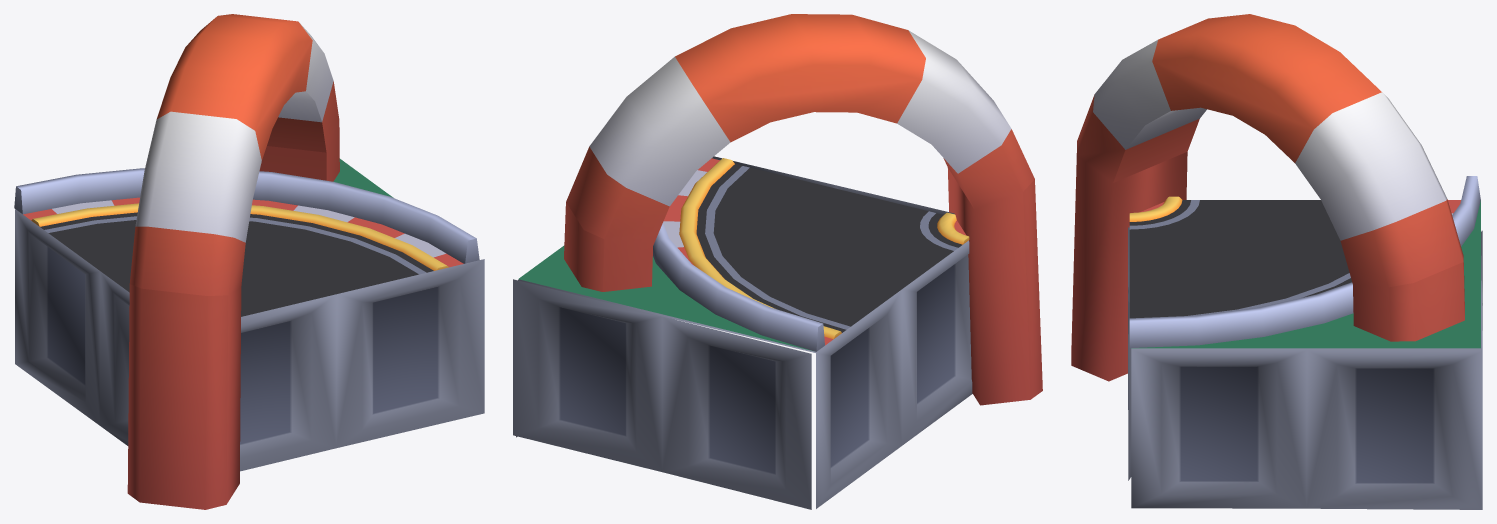
File: track-checkpoint-corner.glb
3 views of the same model, side by side, from view 1: azimuth 30°, elevation 25°; view 2: azimuth 150°, elevation 25°; view 3: azimuth 270°, elevation 25° (orthographic). The views are drawn at different scales.
Parts seen in each view (by area): view 1: track-corner; view 2: track-corner; view 3: track-corner.
Part boxes in pixels (<box>): track-corner: <box>14,14,484,509</box>; track-corner: <box>513,14,1042,509</box>; track-corner: <box>1071,14,1482,509</box>.
Bounding box in the file's own units: 11.81 × 12.09 × 11.72.
Materials: 3 (3 with a texture image).
